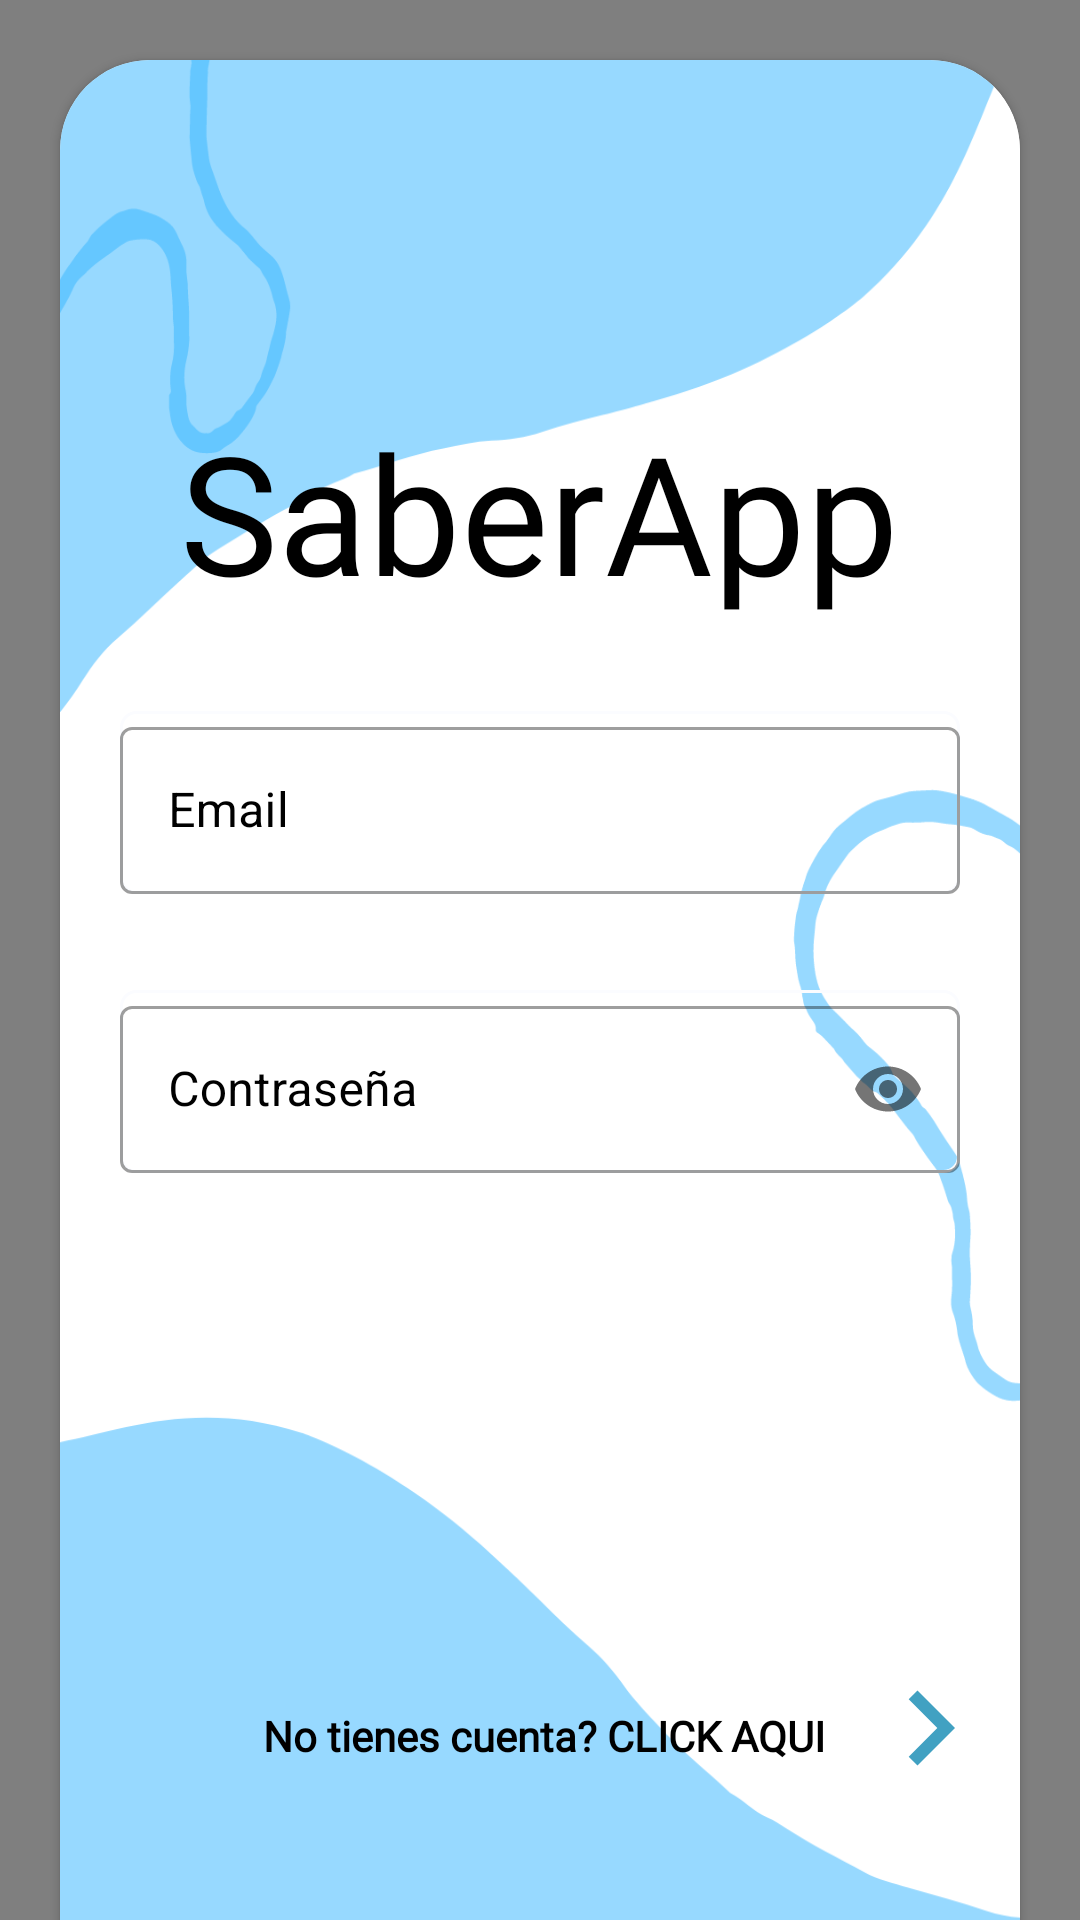

Icon bounding boxes for this 1080px x 1920px phone screenshot, format (x1, y1, x2, y2):
keyboard arrow right: (909, 1690, 955, 1766)
